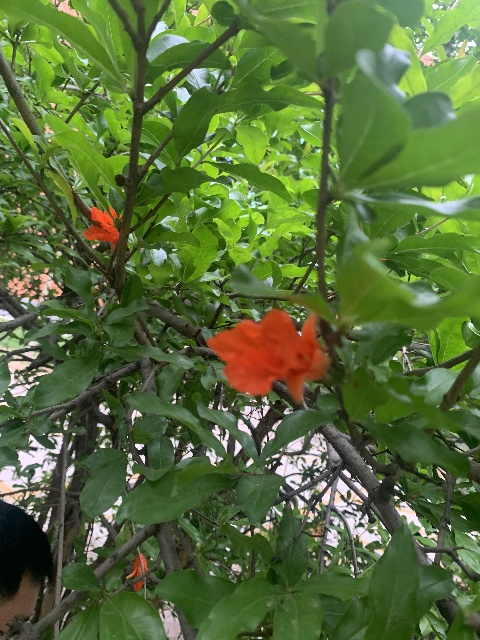flower: (205, 306, 330, 405), (82, 205, 120, 252), (126, 552, 148, 590)
